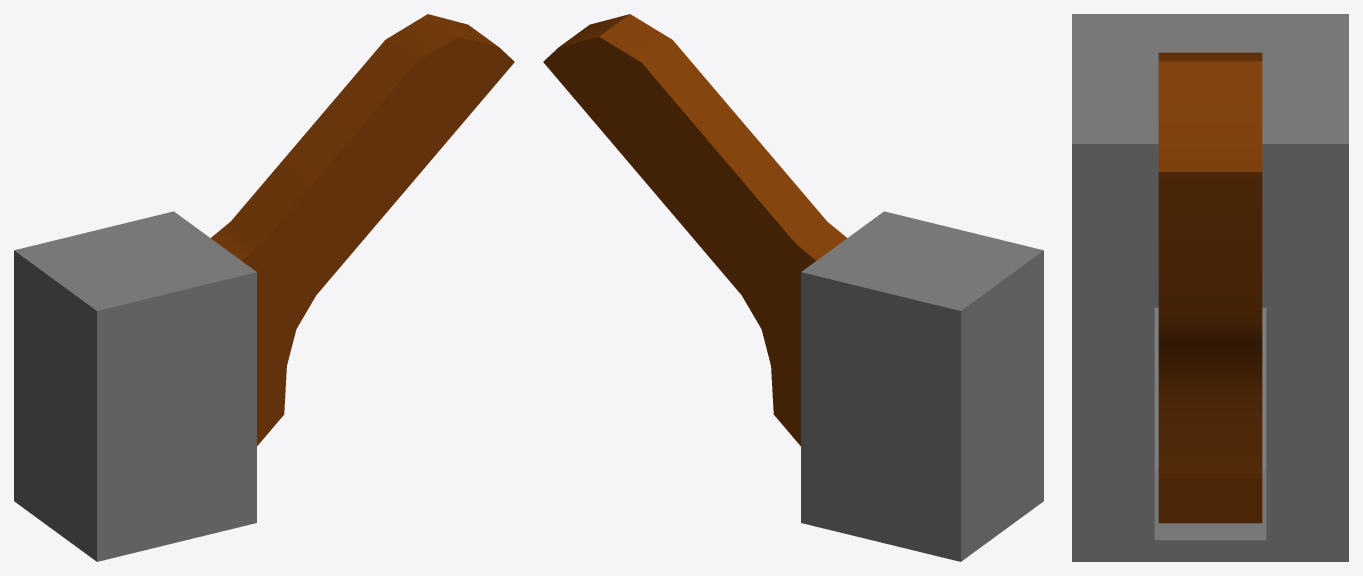
The model's file is lever.fbx.
3 views of the same model, side by side, from view 1: azimuth 30°, elevation 25°; view 2: azimuth 150°, elevation 25°; view 3: azimuth 270°, elevation 25° (orthographic). The views are drawn at different scales.
Parts seen in each view (by area): view 1: Lever back, lever; view 2: Lever back, lever; view 3: Lever back, lever.
Part boxes in pixels (x1=…): Lever back: x1=14, y1=211, x2=256, y2=561; lever: x1=211, y1=14, x2=514, y2=445; Lever back: x1=801, y1=211, x2=1043, y2=561; lever: x1=543, y1=14, x2=846, y2=445; Lever back: x1=1072, y1=14, x2=1348, y2=561; lever: x1=1158, y1=52, x2=1262, y2=523.
Bounding box in the file's own units: 61.1 × 54.14 × 19.8.
